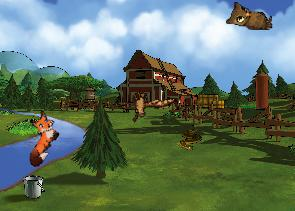eagle: (119, 75, 177, 133)
fox: (10, 107, 67, 169)
owl: (226, 1, 273, 30)
